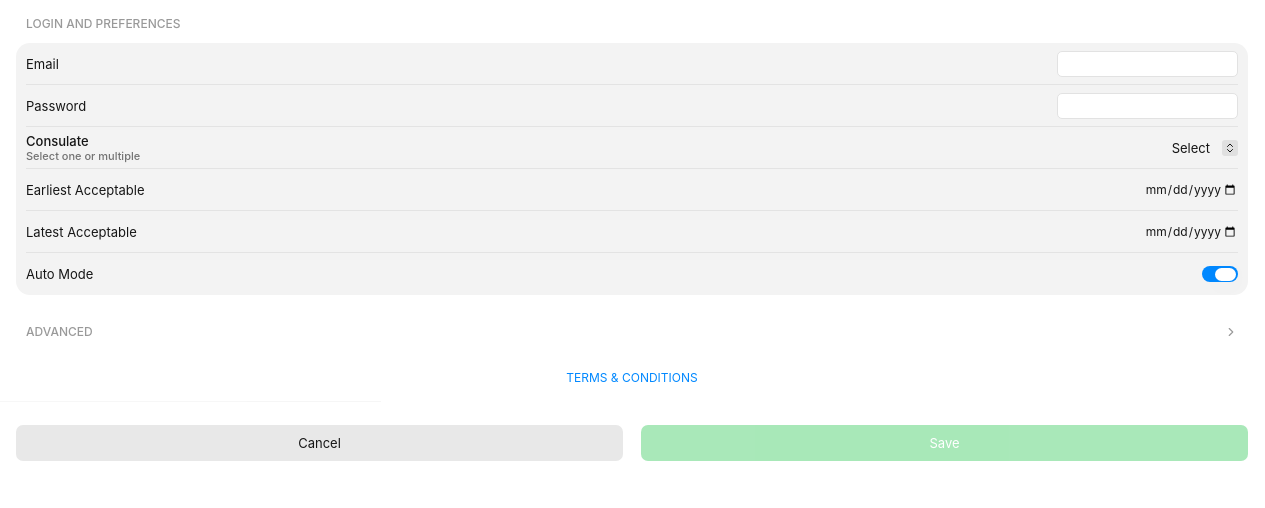
Test: Settings validation timing › only warns about the completed Earliest Acceptable field and hides its warning on refocus
Click the date field labelled "Earliest Acceptable": (1168, 190) [1099,176,1238,202]
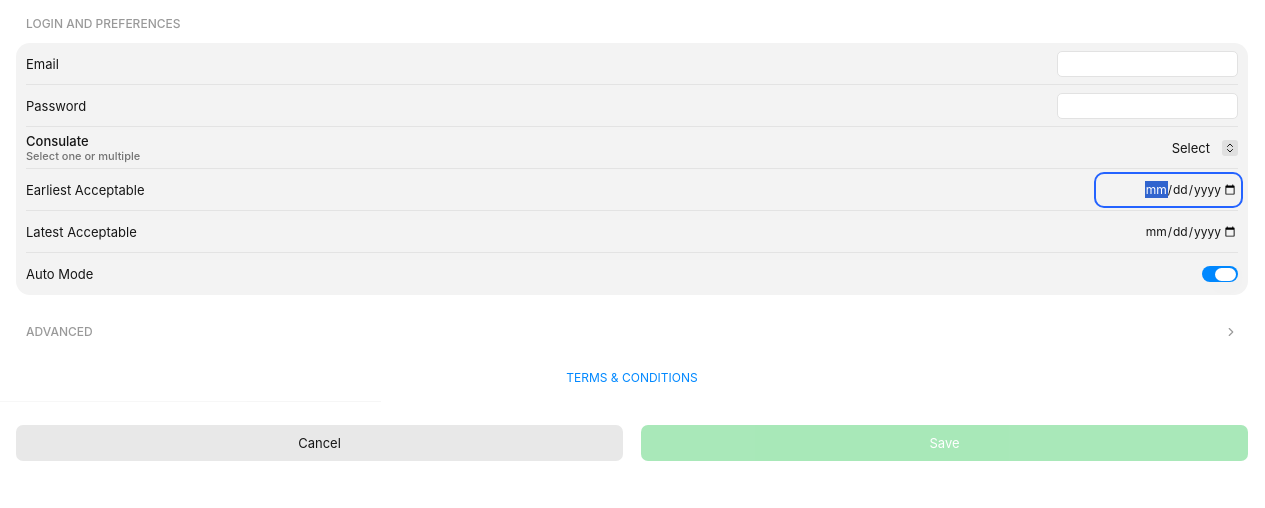
Click the heading "Login and preferences": (103, 24) [26,16,180,31]
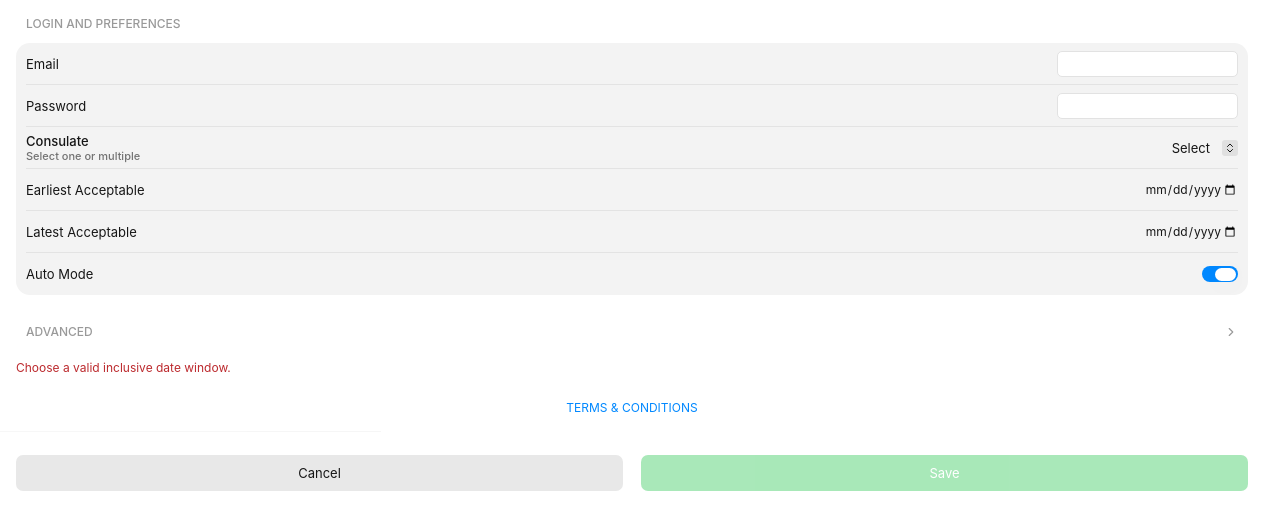
Check: the message reads "Choose a valid inclusive date window.", box [16,360,231,375]
Click the date field labelled "Earliest Acceptable": (1168, 190) [1099,176,1238,202]
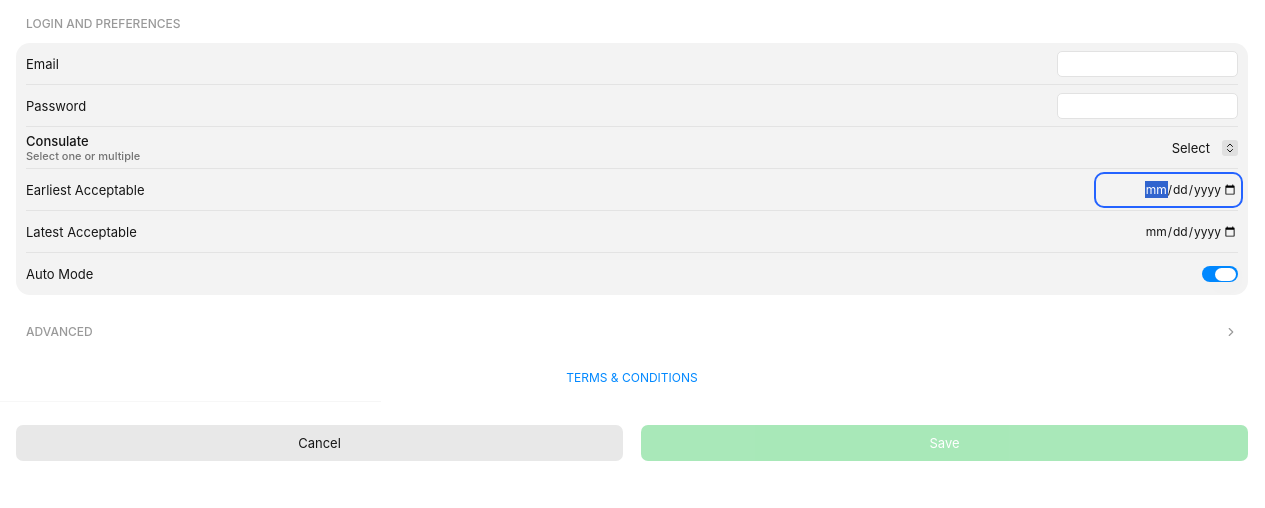
Check: the message "Choose a valid inclusive date window." is gone
